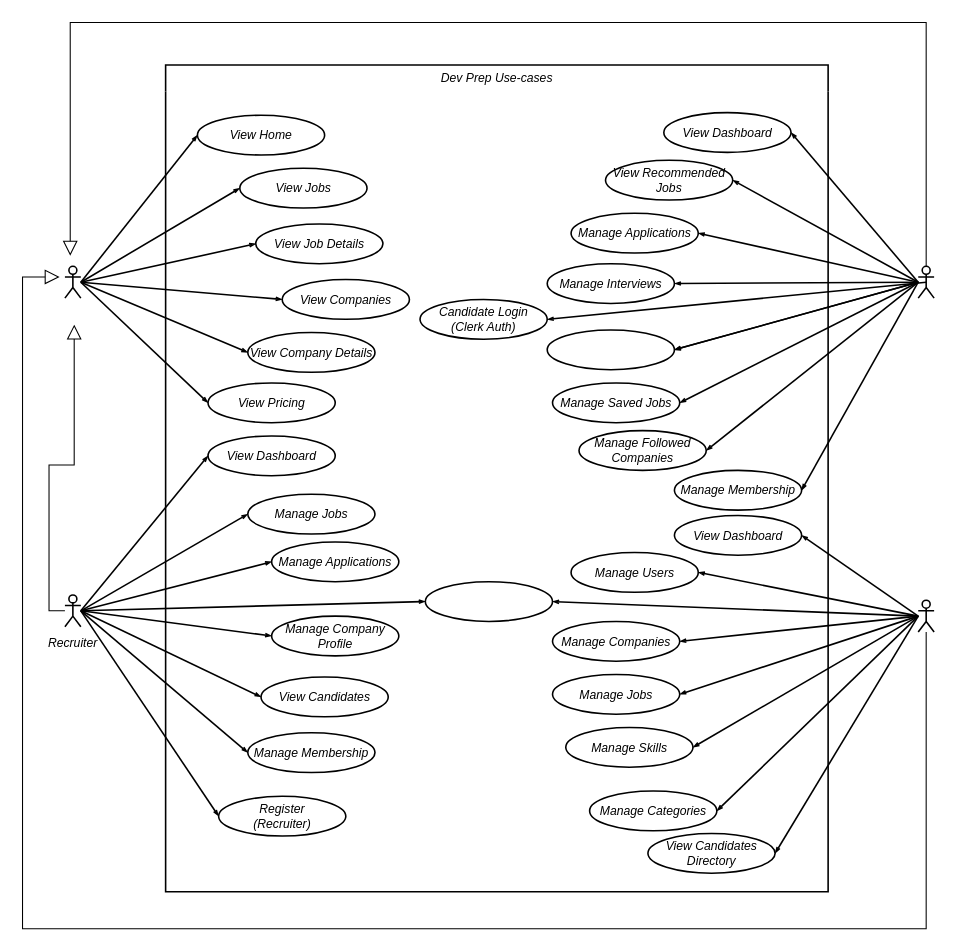
Image size: 963x951. Some labels were removed from this diagram. Each missing label, with the box of its shape:
Admin: (917, 599, 935, 633)
Candidate: (917, 265, 935, 299)
Guest: (64, 265, 81, 299)
Manage Profile: (546, 329, 675, 370)
Staff Login (Admin/Recruiter): (424, 581, 553, 622)
